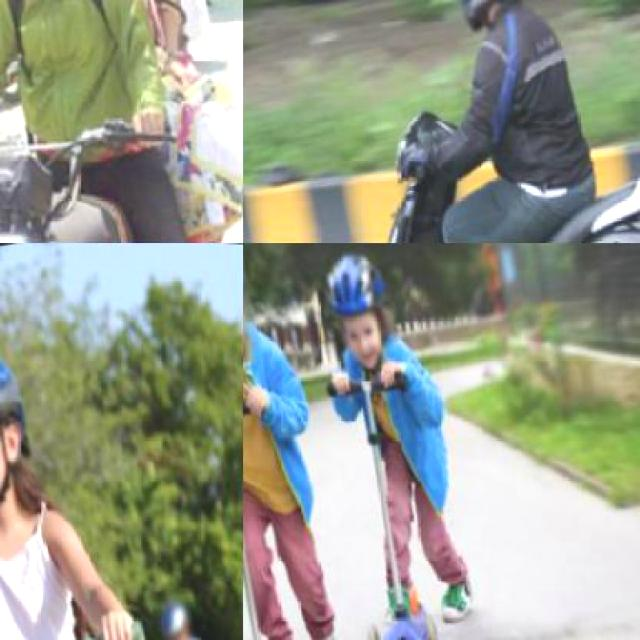With Helmet: (308, 243, 408, 377), (0, 318, 57, 524), (434, 0, 543, 40), (148, 578, 206, 638), (243, 243, 269, 374)
